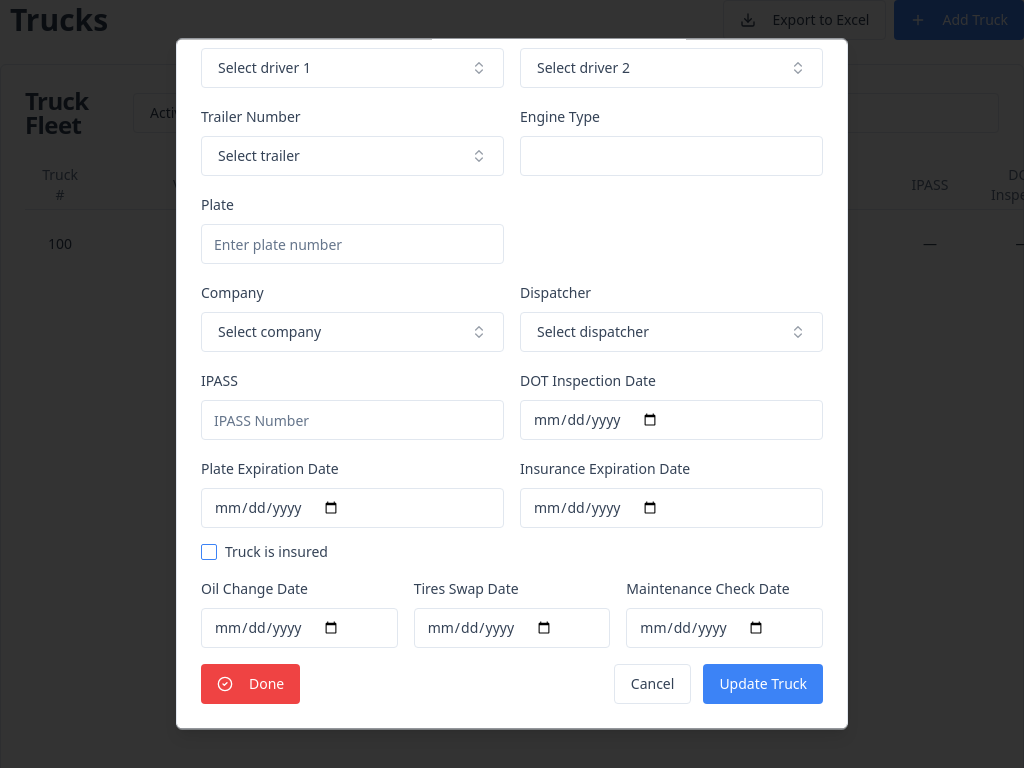
Test: marks an active unit temporary_inactive and clears assignments
Earlier steps of the test are not shown.
Later steps or results of the test are not shown.
(page scrolled)
Expected: the button "Update Truck" is shown, [703,664,823,704]
Click the button "Done" at (251, 684), box [201,664,300,704]
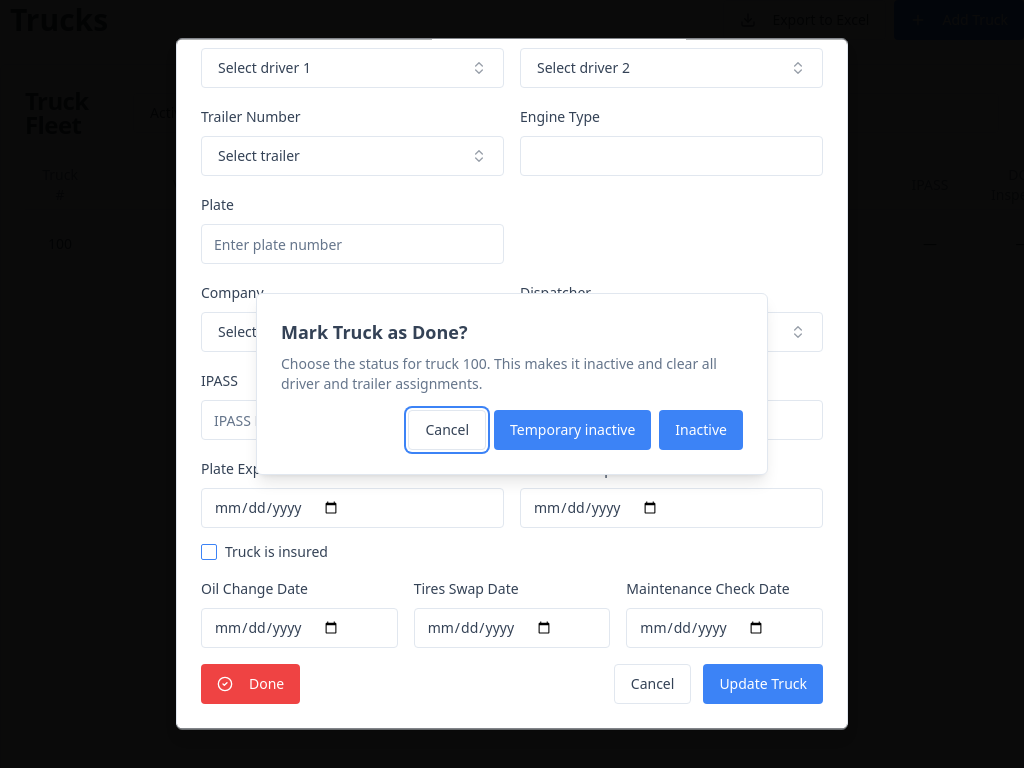
Expected: the buttons read "Cancel", "Temporary inactive", "Inactive", in this order
Click the button "Temporary inactive" at (573, 430), box [494,410,651,450]
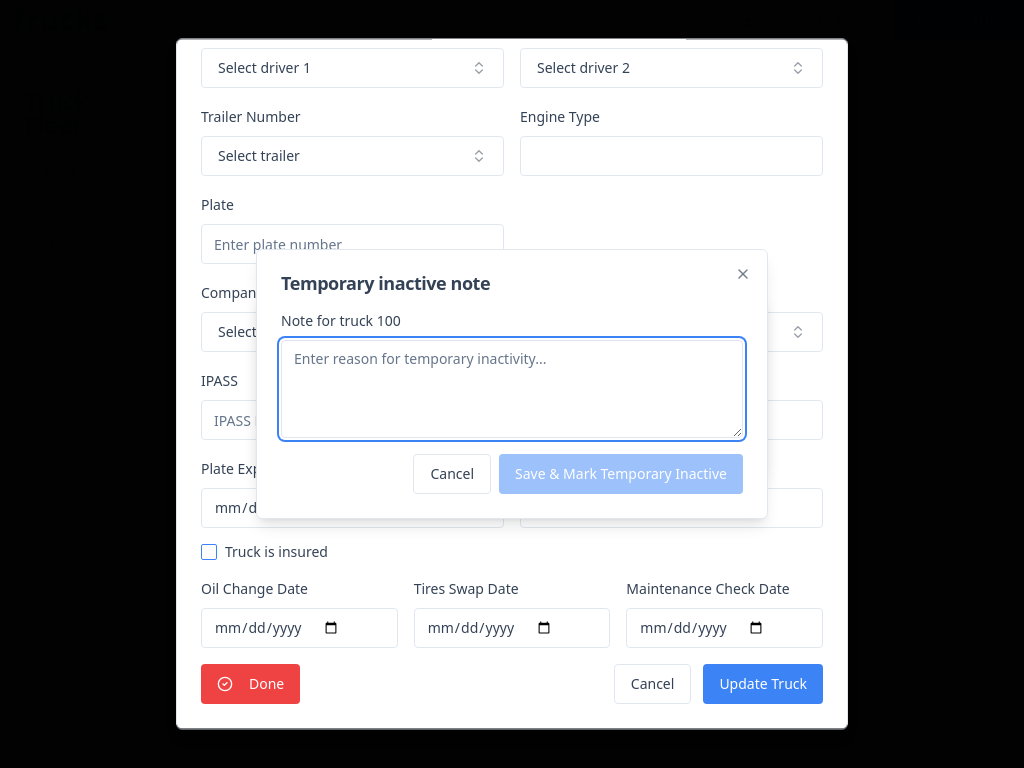
Expected: the button "Save & Mark Temporary Inactive" is disabled, [499,454,743,494]
